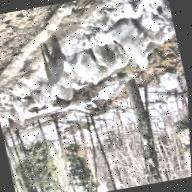boar: (27, 30, 74, 101)
